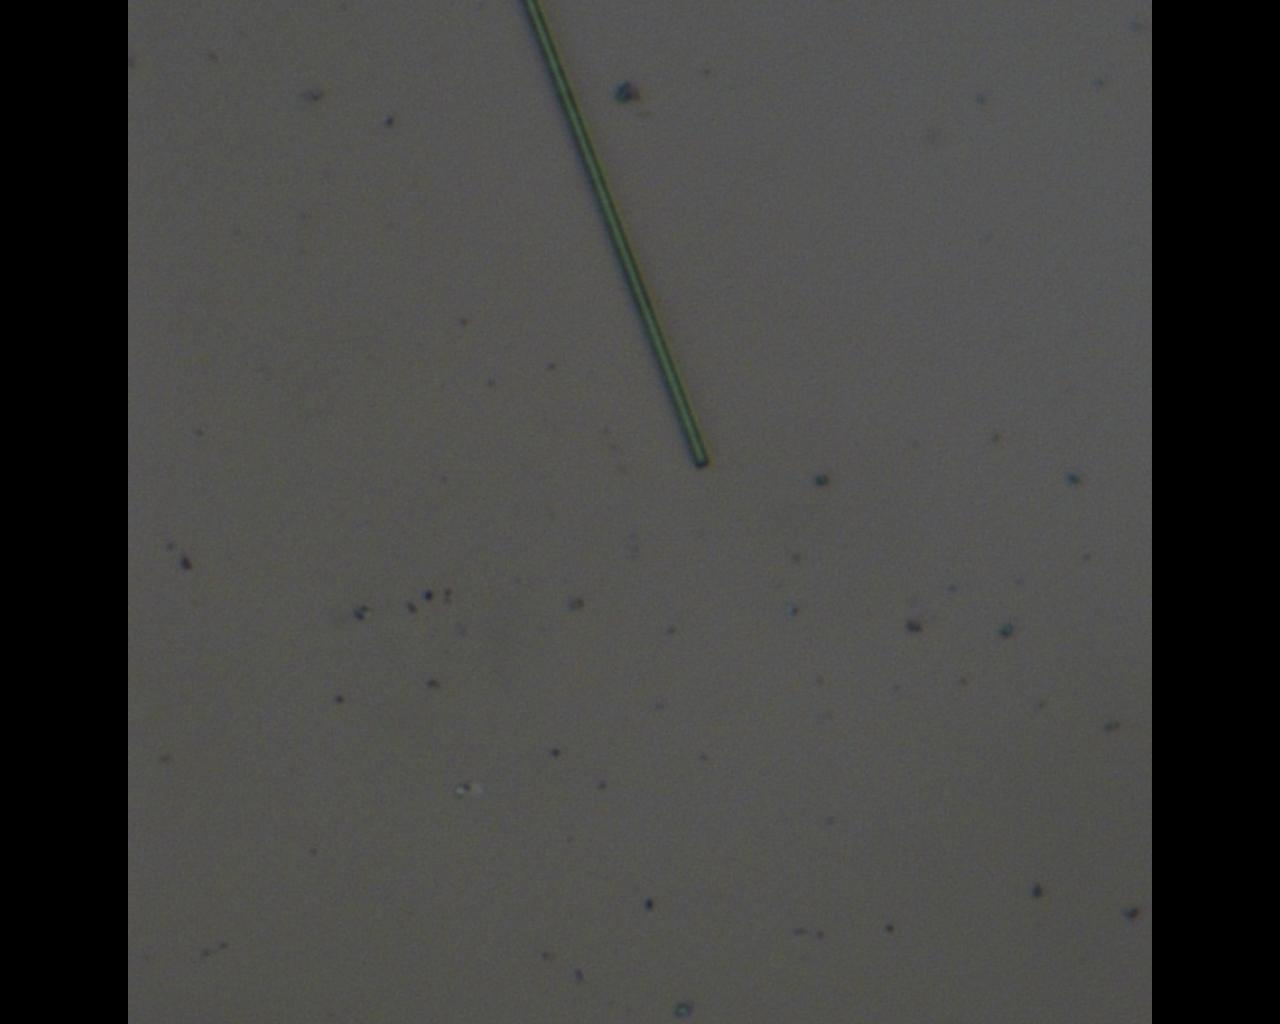fiber: (0, 553, 563, 820), (288, 0, 430, 501), (1013, 385, 1280, 501)
